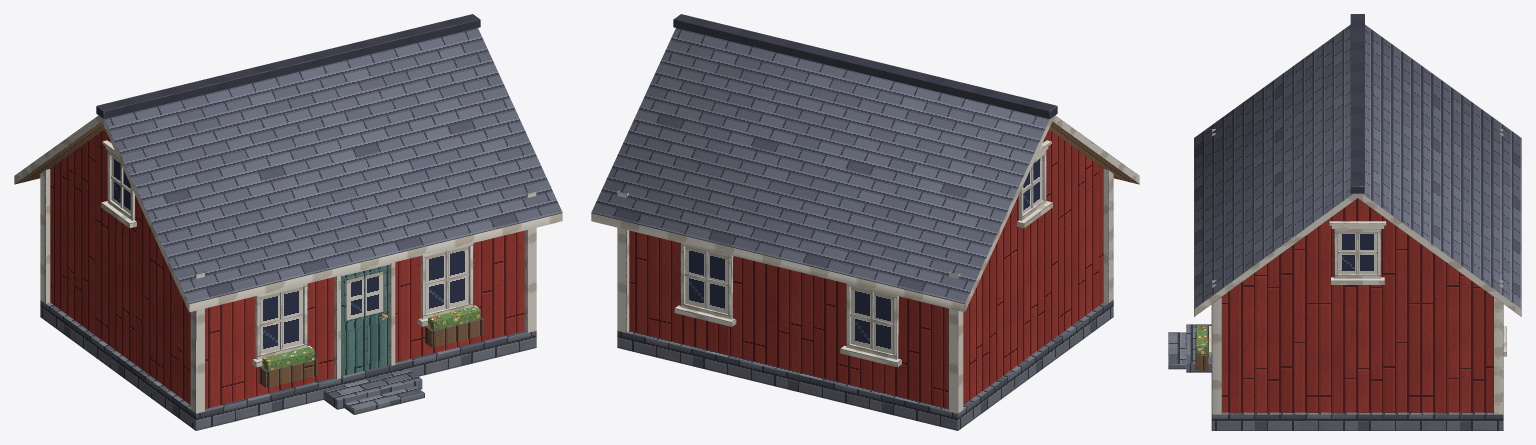
File: town_house_0.glb
3 renders of one model, left to right at view 1: azimuth 30°, elevation 25°; view 2: azimuth 150°, elevation 25°; view 3: azimuth 270°, elevation 25°, orthographic. The views are drawn at different scales.
Parts seen in each view (by area): view 1: town_house_1; view 2: town_house_1; view 3: town_house_1.
Part boxes in pixels (<box>): town_house_1: <box>14,14,562,430</box>; town_house_1: <box>591,14,1139,430</box>; town_house_1: <box>1168,14,1521,430</box>.
Size of the model in its own units: 7.96 by 5.45 by 6.9.
Materials: 11 (11 with a texture image).
